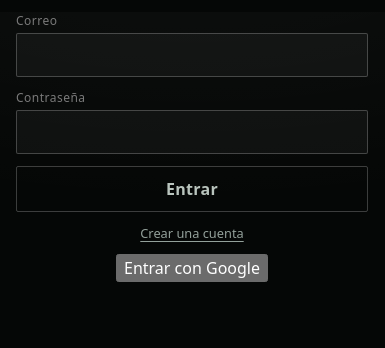
it: AccountPanel › enseña el mensaje del servidor cuando ese correo ya tiene cuenta
Click the button "Entrar con Google".
click(192, 268)  # box x1=116 y1=254 x2=268 y2=282
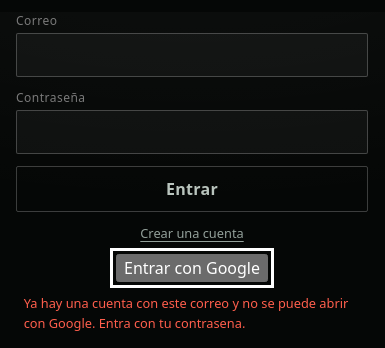
Now the message shows "Ya hay una cuenta con este correo", box x1=24 y1=294 x2=348 y2=332
